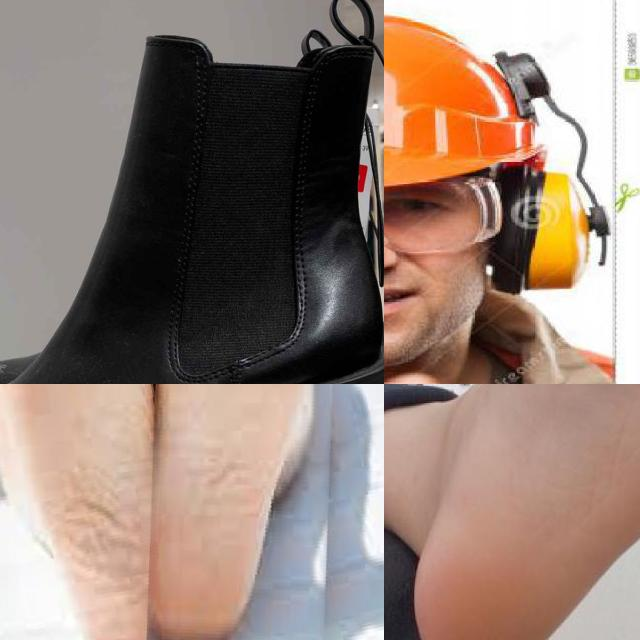Barefoots: (384, 384, 640, 640), (0, 384, 197, 640), (142, 384, 330, 640)
Ear-protection: (384, 158, 607, 309)
Sandals: (0, 0, 384, 384)
glasses: (384, 178, 515, 275)
head_helmet: (384, 12, 554, 198)
person: (384, 8, 617, 384)
